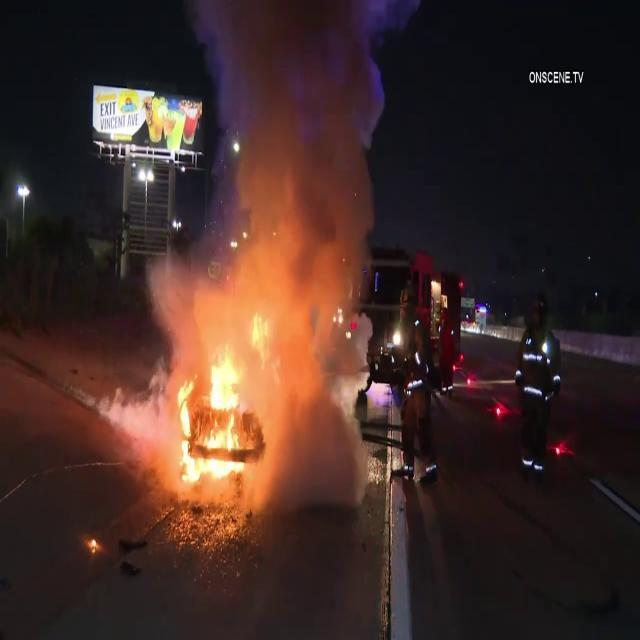Fire: (152, 296, 266, 488)
Smoke: (170, 9, 388, 364)
